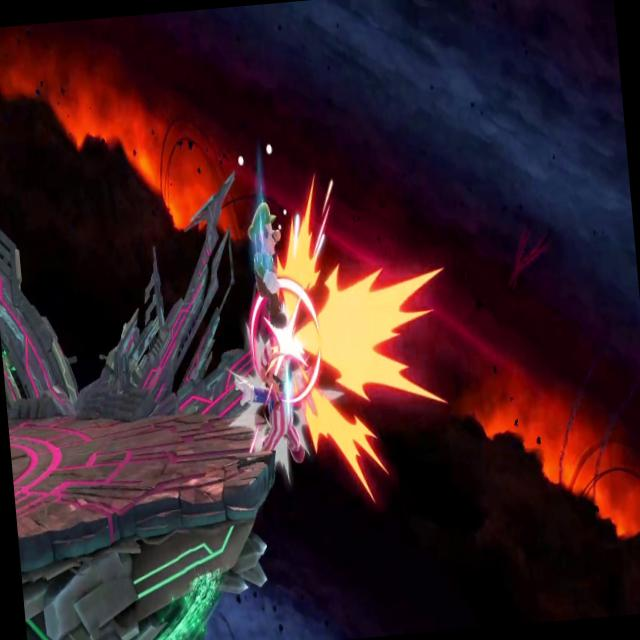Mario: (241, 192, 305, 332)
Mario-Down Air: (226, 331, 332, 475)
